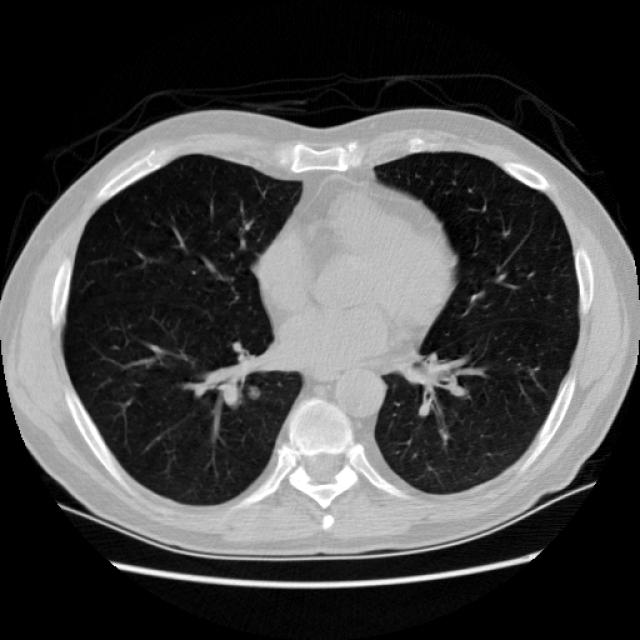nodule: (238, 376, 268, 406)
